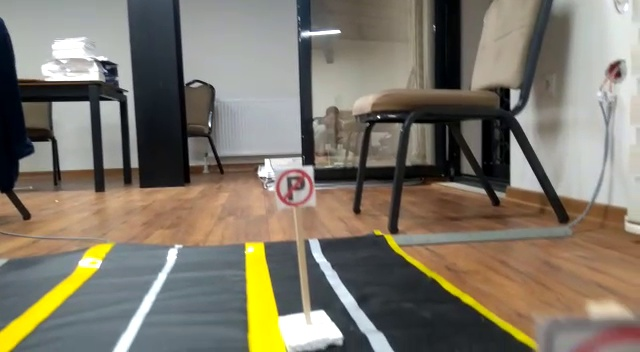park_yapilmaz: (275, 164, 316, 207)
